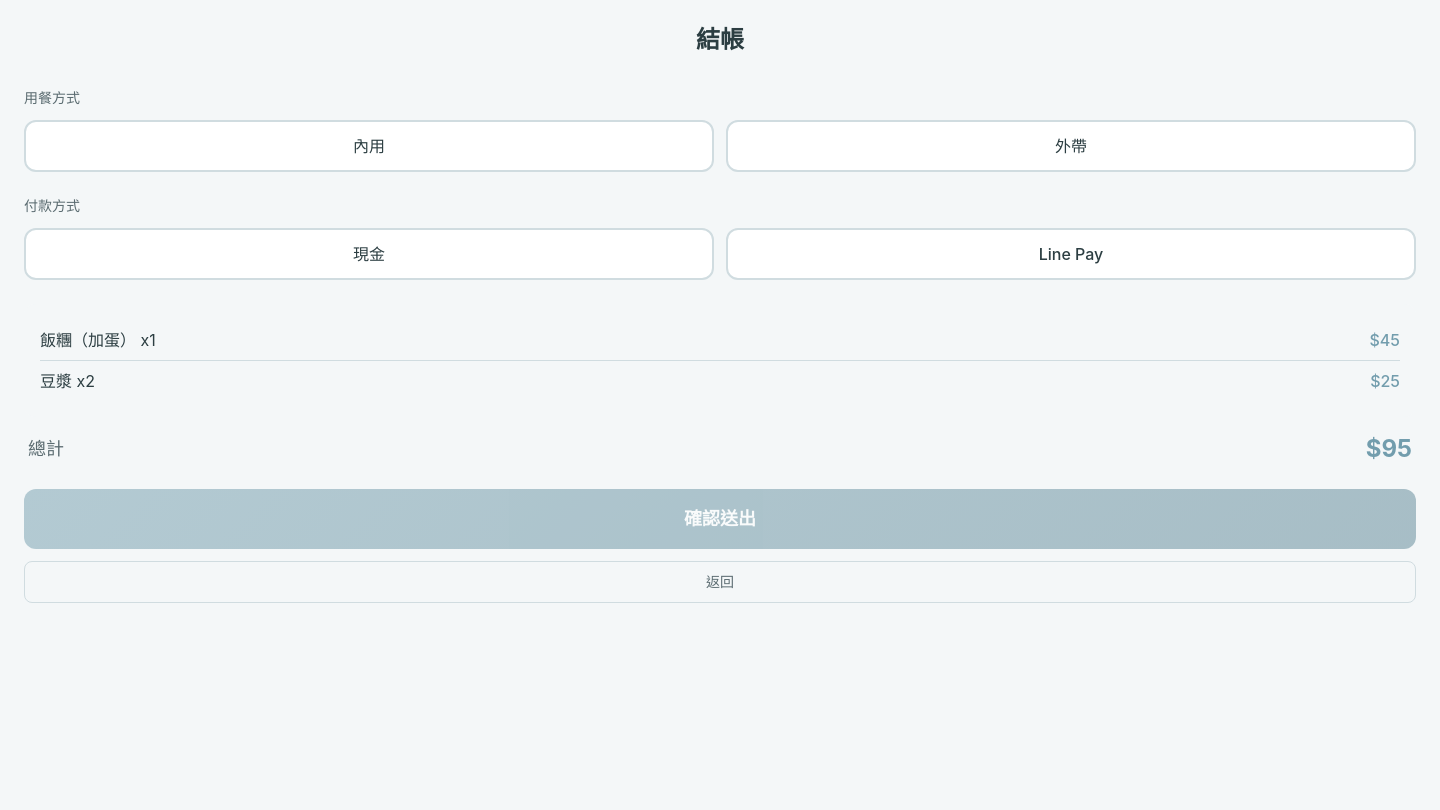
CheckoutFlow › 手動結帳（一頁式） › 送出中按鈕應 disabled 並顯示「處理中...」
Click the button "外帶".
click(1071, 146)  # box [726,120,1416,172]
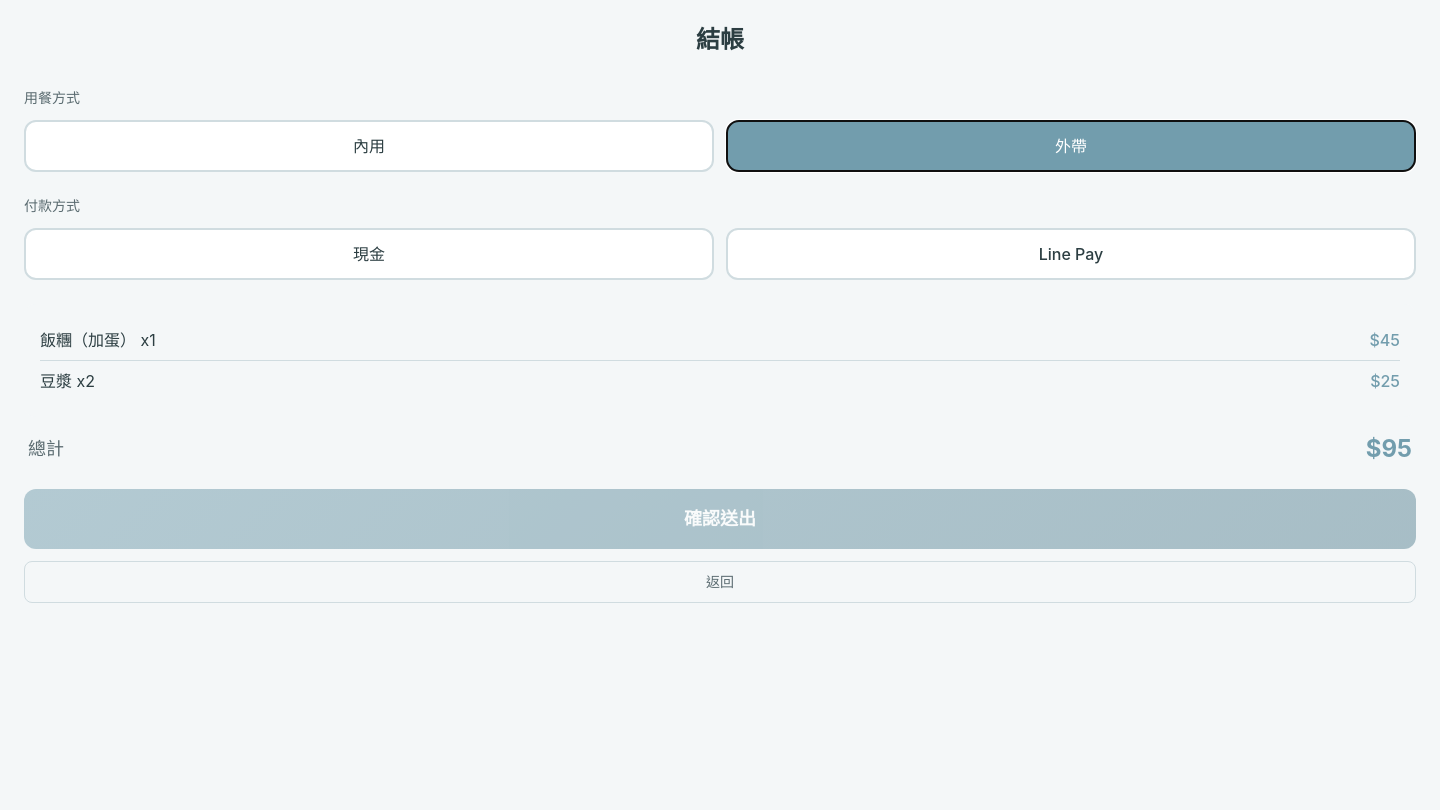
Click the button "現金".
click(369, 254)  # box [24,228,714,280]
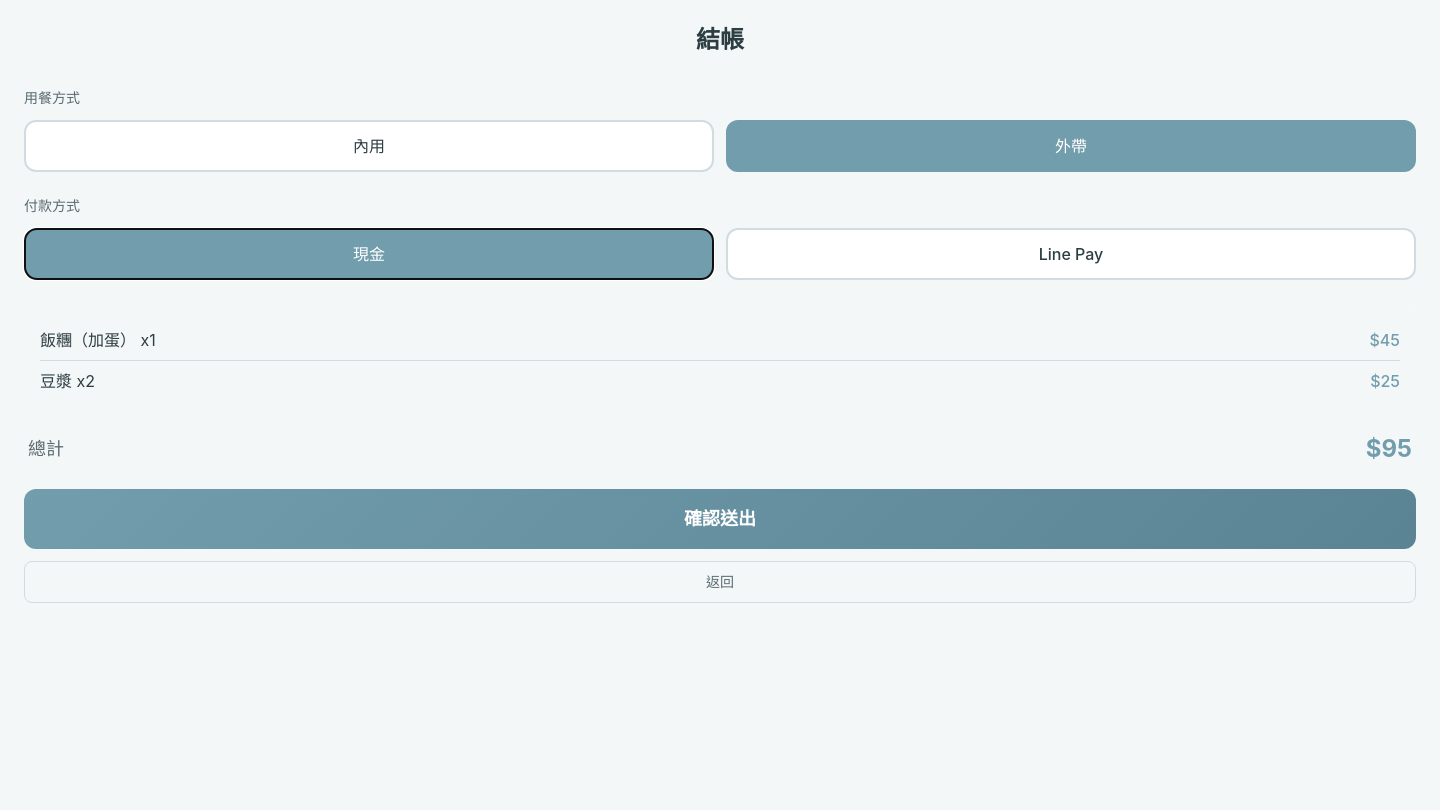
Click the button "確認送出".
click(720, 519)  # box [24,489,1416,549]
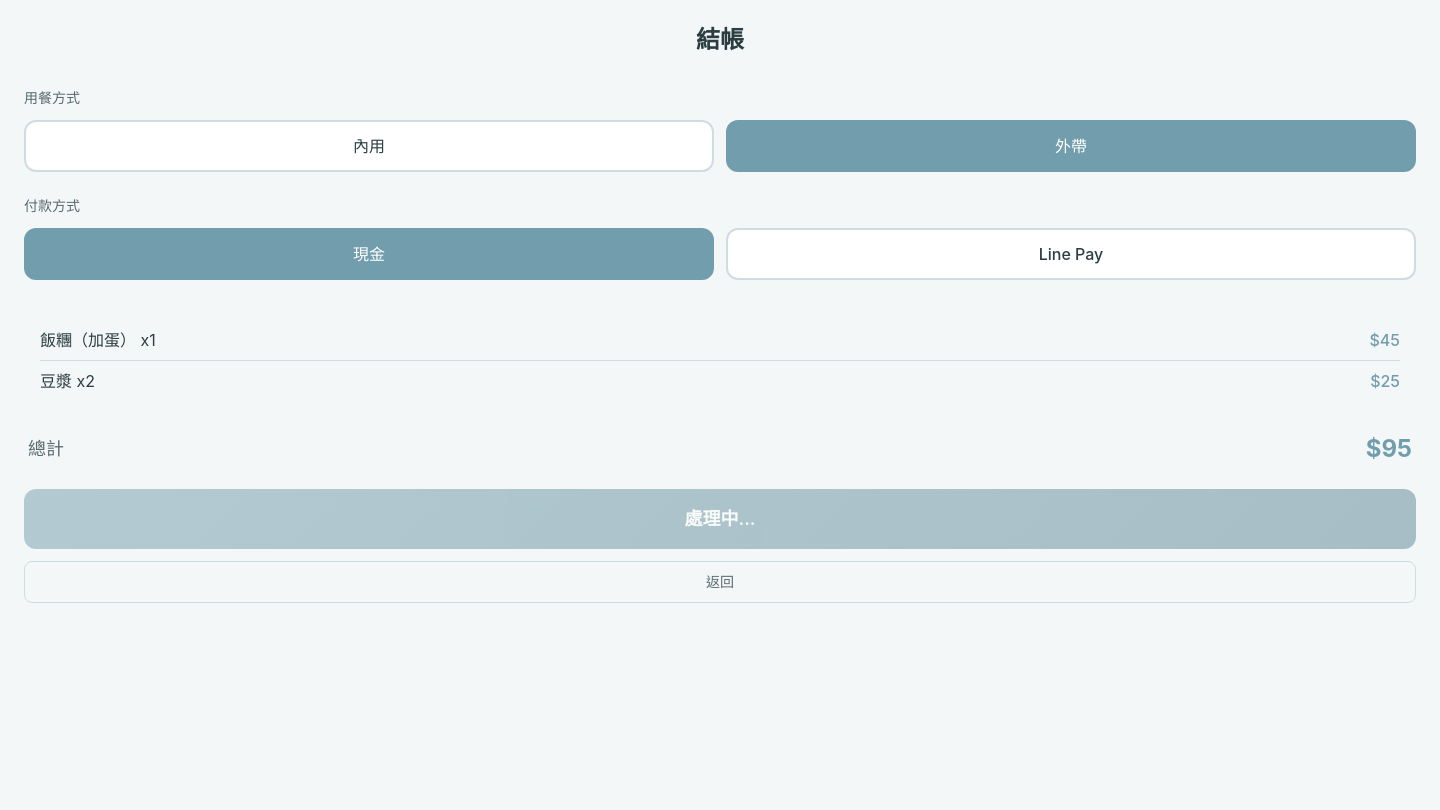
Expected: the button "處理中..." is disabled, [24,489,1416,549]
